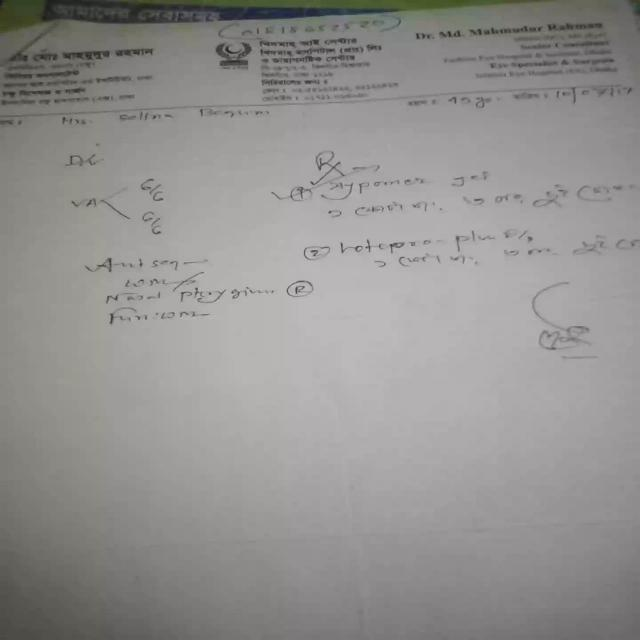Hypomer Gel: (325, 173, 500, 190)
Lotepro Plus: (328, 235, 508, 257)
